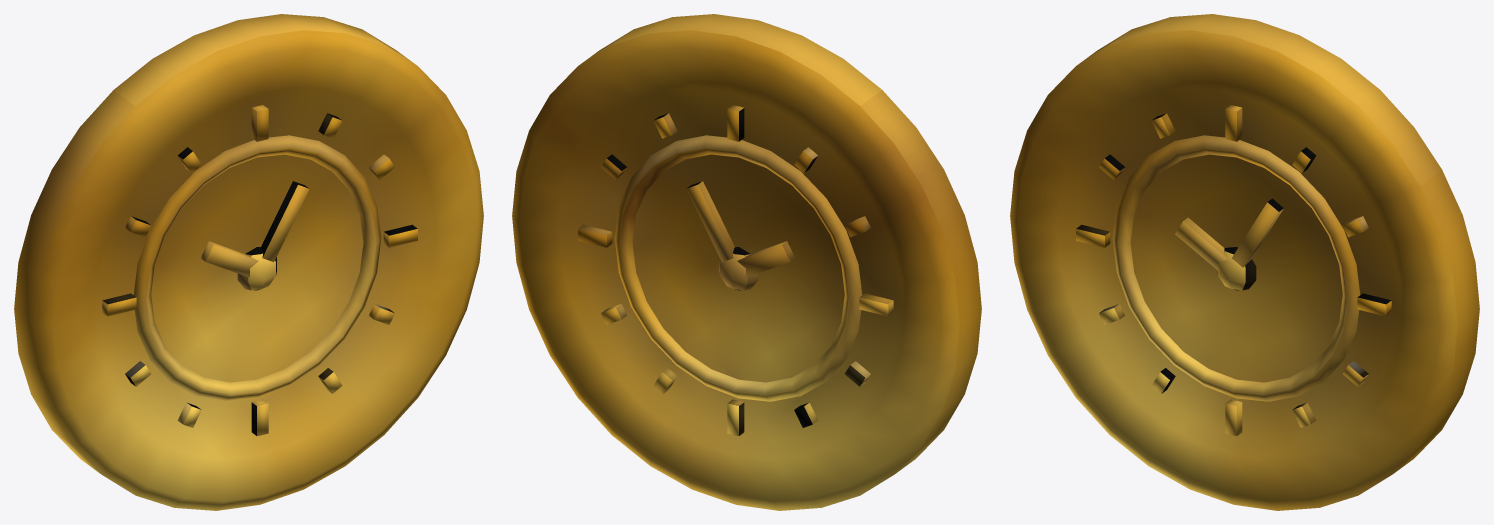
Rendered from Coin.fbx.
3 renders of one model, left to right at view 1: azimuth 30°, elevation 25°; view 2: azimuth 150°, elevation 25°; view 3: azimuth 330°, elevation 25°, orthographic.
Visible parts, largest first — view 1: Coin; view 2: Coin; view 3: Coin.
Boxes of the visible parts, x1,y1,x2,y2 form: Coin: (14, 14, 483, 510); Coin: (512, 14, 981, 510); Coin: (1010, 14, 1479, 510).
Bounding box in the file's own units: 0.14 × 0.14 × 0.018.
